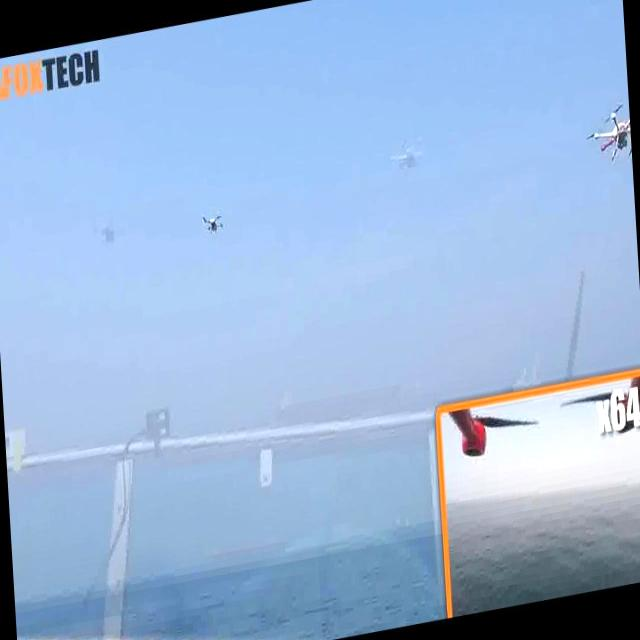drone: (584, 104, 633, 173), (194, 203, 226, 240)
